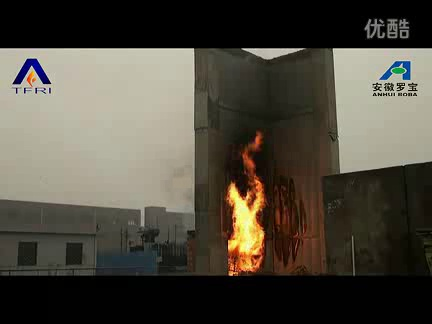fire: (219, 129, 268, 279)
